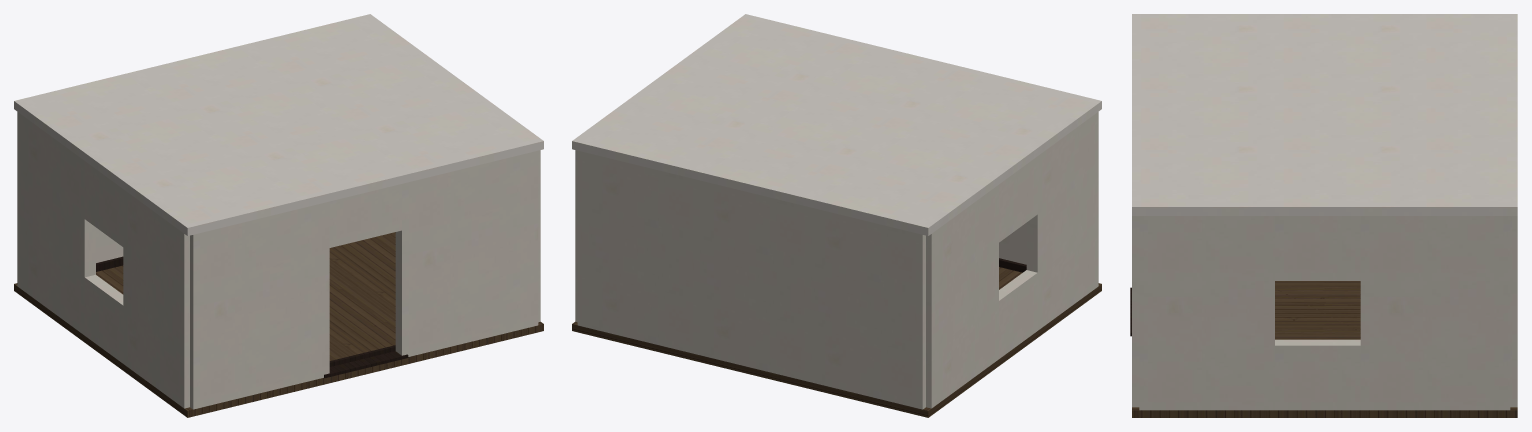
The model's file is int_modern_block_01.glb.
The picture shows the model from 3 angles, left to right: view 1: azimuth 30°, elevation 25°; view 2: azimuth 150°, elevation 25°; view 3: azimuth 270°, elevation 25°; orthographic projection. The views are drawn at different scales.
Visible parts, largest first — view 1: int_modern_block_01; view 2: int_modern_block_01; view 3: int_modern_block_01.
Boxes of the visible parts, box(x1,y1,x2,y2) form: int_modern_block_01: box(14, 14, 543, 417); int_modern_block_01: box(572, 14, 1101, 417); int_modern_block_01: box(1130, 14, 1517, 417).
Size of the model in its own units: 6.4 by 3.26 by 5.42.
Materials: 6 (6 with a texture image).
